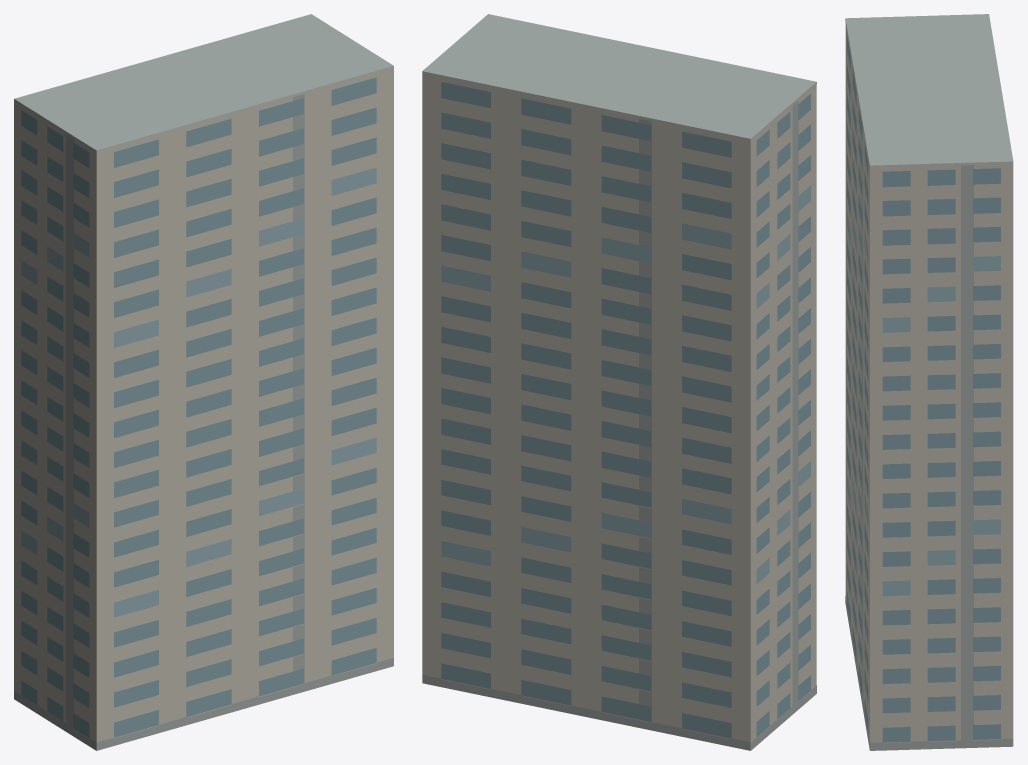
Rendered from residential-ee8d418c-b635-4829-931e-7f2f26c8eb9e.glb.
3 renders of one model, left to right at view 1: azimuth 30°, elevation 25°; view 2: azimuth 150°, elevation 25°; view 3: azimuth 270°, elevation 25°, orthographic. The views are drawn at different scales.
Visible parts, largest first — view 1: residential-ee8d418c-b635-4829-931e-7f2f26c8eb9e.tmp; view 2: residential-ee8d418c-b635-4829-931e-7f2f26c8eb9e.tmp; view 3: residential-ee8d418c-b635-4829-931e-7f2f26c8eb9e.tmp.
Part boxes in pixels (x1,y1,x2,y2): residential-ee8d418c-b635-4829-931e-7f2f26c8eb9e.tmp: (14, 14, 393, 750); residential-ee8d418c-b635-4829-931e-7f2f26c8eb9e.tmp: (422, 14, 816, 750); residential-ee8d418c-b635-4829-931e-7f2f26c8eb9e.tmp: (845, 14, 1013, 750).
Bounding box in the file's own units: 31.11 × 56 × 14.57.
